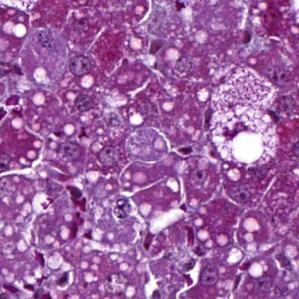ballooning: (208, 106, 279, 166)
